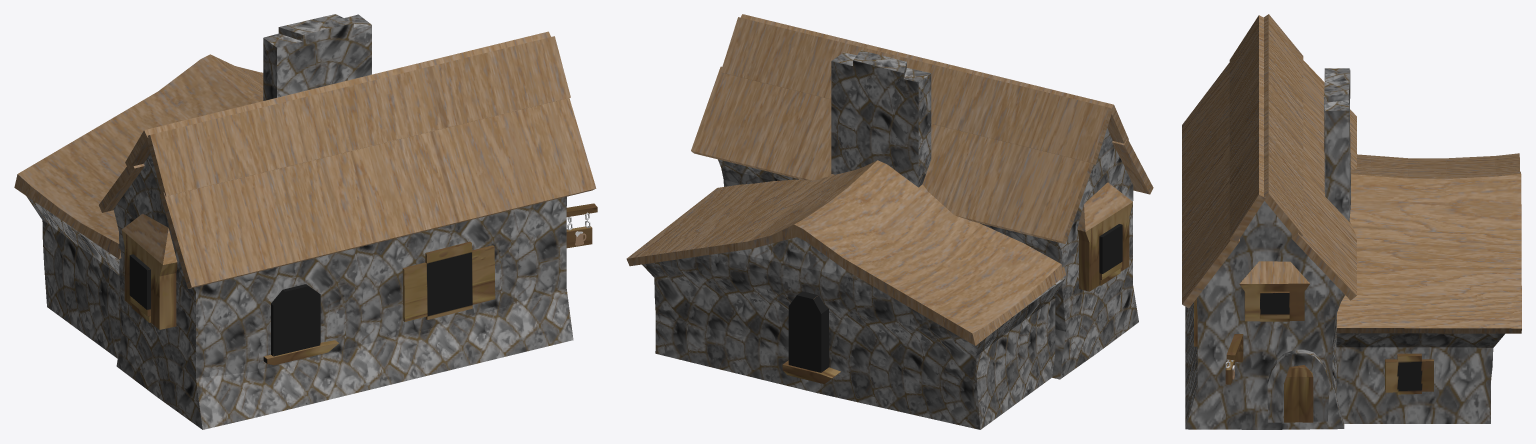
File: bar.fbx
3 views of the same model, side by side, from view 1: azimuth 30°, elevation 25°; view 2: azimuth 150°, elevation 25°; view 3: azimuth 270°, elevation 25° (orthographic). The views are drawn at different scales.
Parts seen in each view (by area): view 1: Cube.005; view 2: Cube.005; view 3: Cube.005.
Part boxes in pixels (box(x1,y1,x2,y2)): Cube.005: box(14, 14, 597, 429); Cube.005: box(626, 14, 1153, 429); Cube.005: box(1182, 14, 1521, 429).
Size of the model in its own units: 1489 by 967 by 1102.
